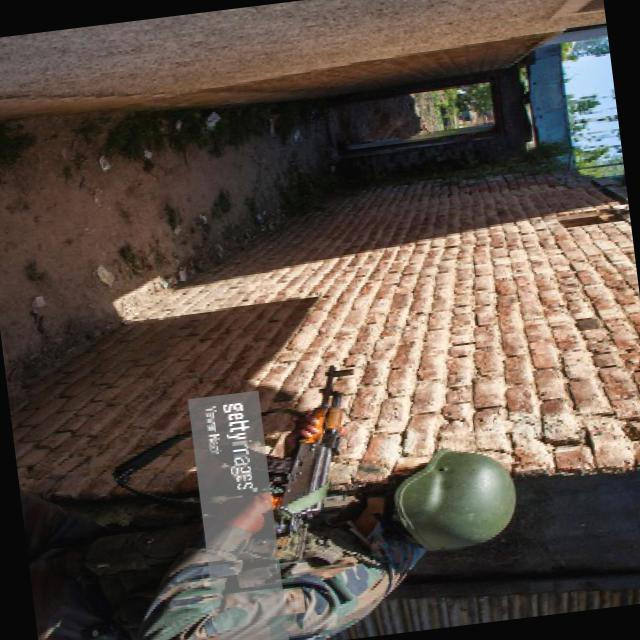long weapon: (194, 339, 390, 578)
